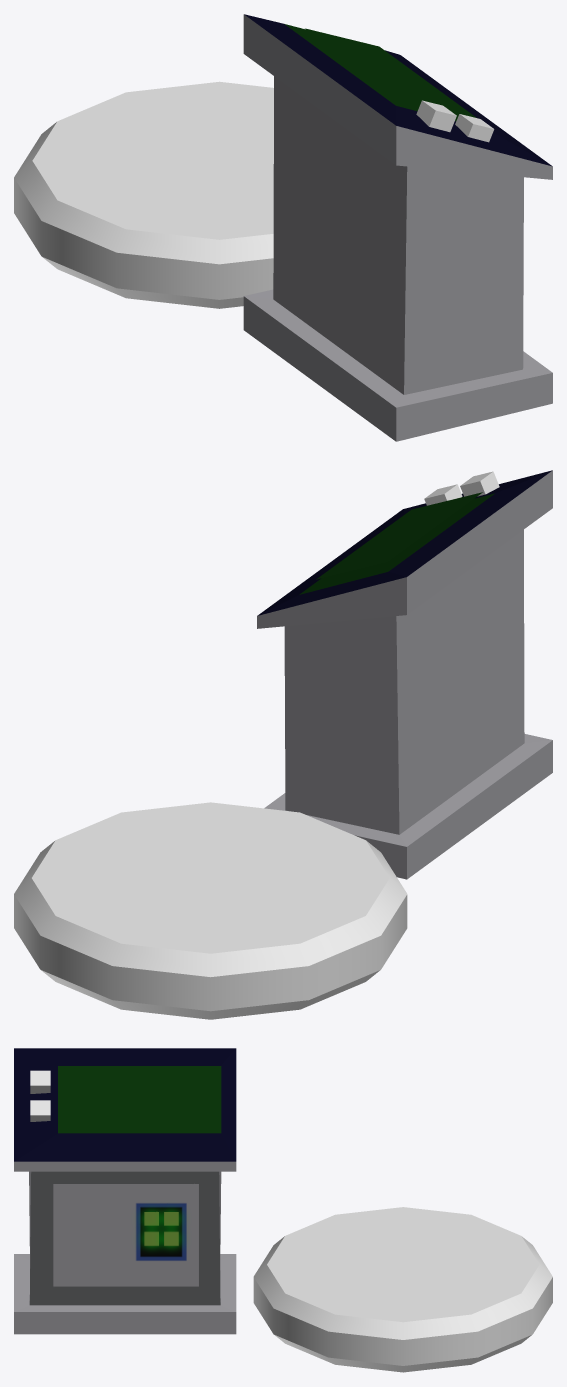
File: Teleport.FBX
3 renders of one model, top to bottom at view 1: azimuth 30°, elevation 25°; view 2: azimuth 150°, elevation 25°; view 3: azimuth 270°, elevation 25°, orthographic. The views are drawn at different scales.
Visible parts, largest first — view 1: PRSW_Computer001, Teleport, PRSW_Computer_Plane_Text001, PRSW_Computer_003, PRSW_Computer_004; view 2: PRSW_Computer001, Teleport, PRSW_Computer_Plane_Text001, PRSW_Computer_003; view 3: PRSW_Computer001, Teleport, PRSW_Computer_Plane_Text001, PRSW_Computer_003, PRSW_Computer_004.
Part boxes in pixels (x1=…): PRSW_Computer001: x1=243, y1=14, x2=552, y2=441; Teleport: x1=14, y1=81, x2=273, y2=308; PRSW_Computer_Plane_Text001: x1=305, y1=28, x2=476, y2=117; PRSW_Computer_003: x1=416, y1=100, x2=456, y2=132; PRSW_Computer_004: x1=455, y1=114, x2=494, y2=142; PRSW_Computer001: x1=257, y1=470, x2=552, y2=879; Teleport: x1=14, y1=802, x2=407, y2=1019; PRSW_Computer_Plane_Text001: x1=316, y1=492, x2=482, y2=579; PRSW_Computer_003: x1=460, y1=471, x2=499, y2=496; PRSW_Computer001: x1=14, y1=1048, x2=236, y2=1334; Teleport: x1=253, y1=1207, x2=552, y2=1372; PRSW_Computer_Plane_Text001: x1=60, y1=1069, x2=206, y2=1122; PRSW_Computer_003: x1=30, y1=1070, x2=50, y2=1093; PRSW_Computer_004: x1=30, y1=1100, x2=50, y2=1121.
Size of the model in its own units: 1.33 by 1.15 by 2.4.
